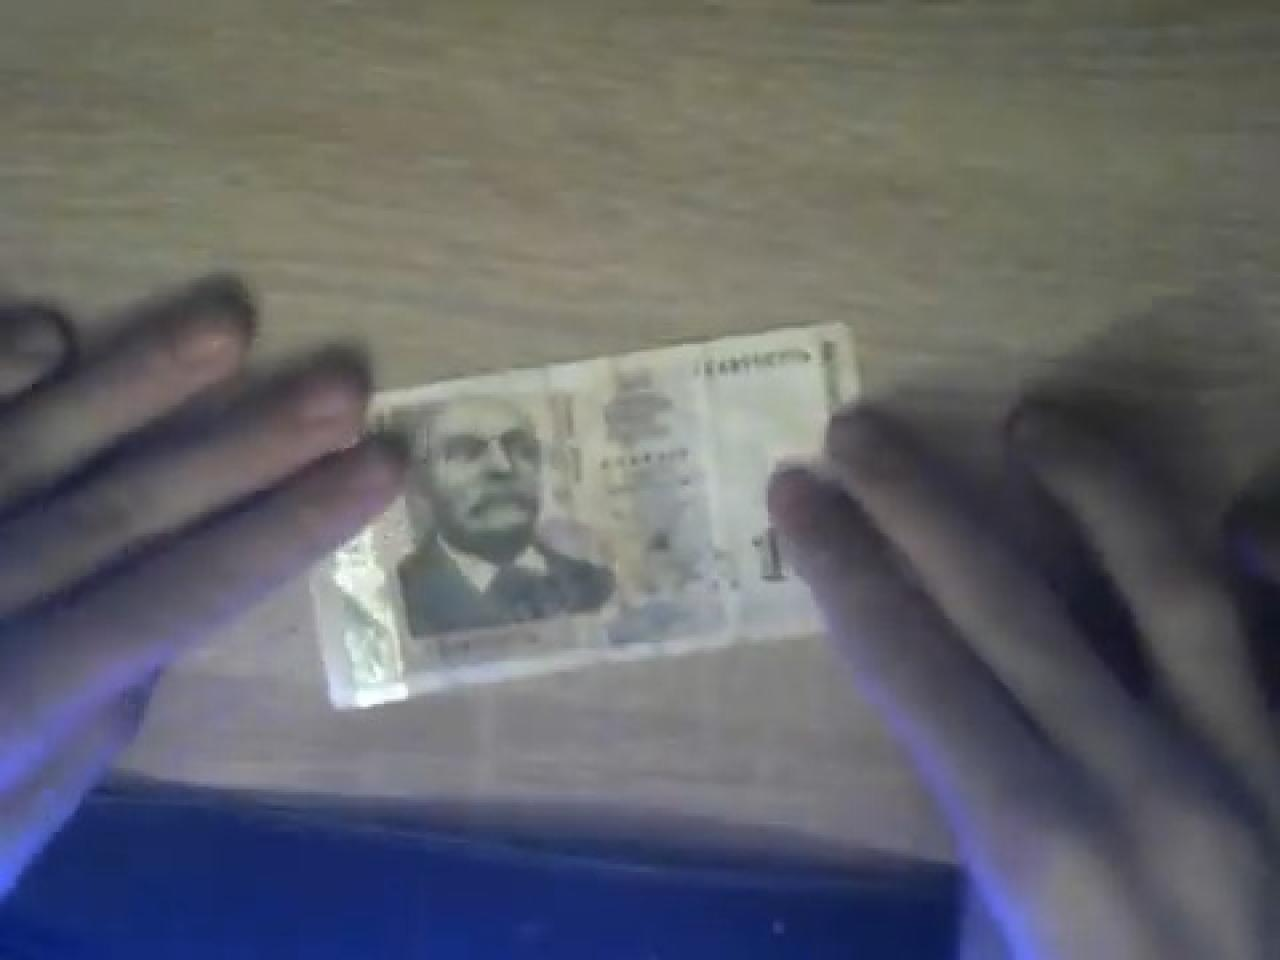10leva: (309, 318, 856, 709)
